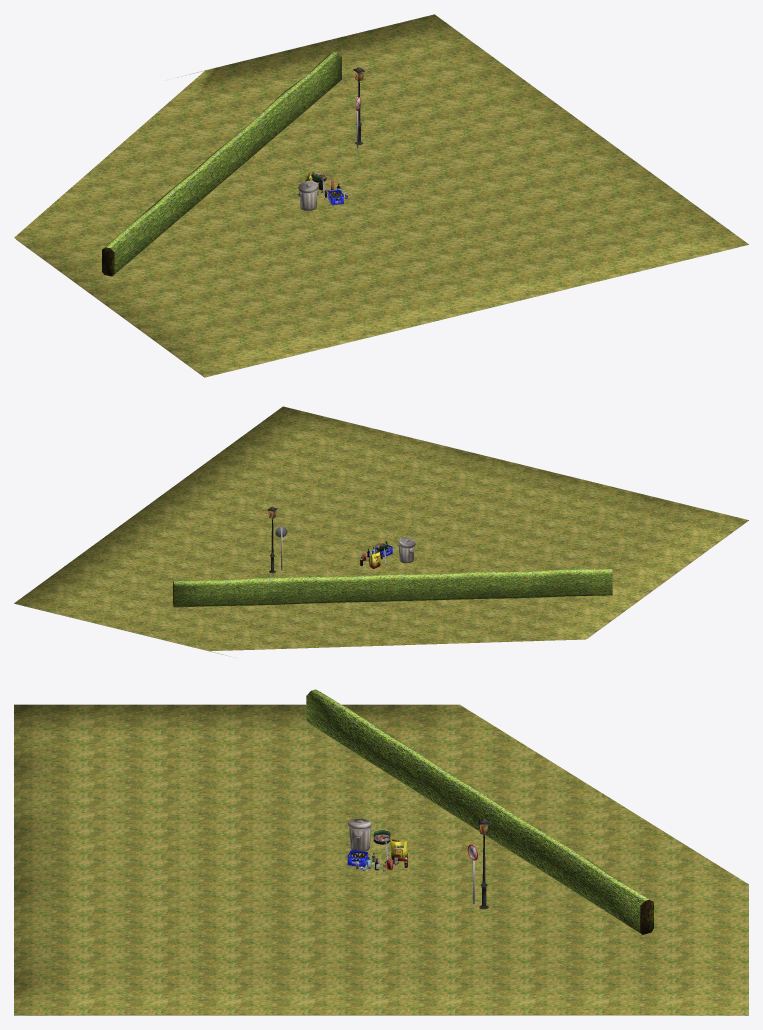
The model's file is grill.obj.
3 views of the same model, one above another, from view 1: azimuth 30°, elevation 25°; view 2: azimuth 150°, elevation 25°; view 3: azimuth 270°, elevation 25° (orthographic). The views are drawn at different scales.
Parts seen in each view (by area): view 1: Cube4_sep87_boden, park_tonne, Cube4_sep87_grill.001; view 2: Cube4_sep87_boden, park_tonne, Cube4_sep87_grill.001; view 3: Cube4_sep87_boden, park_tonne, Cube4_sep87_grill.001, Cube4_sep87_kasten_innen.
Part boxes in pixels (x1,y1,x2,y2): Cube4_sep87_boden: [14, 14, 748, 377]; park_tonne: [102, 52, 341, 276]; Cube4_sep87_grill.001: [305, 67, 364, 199]; Cube4_sep87_boden: [14, 406, 748, 656]; park_tonne: [173, 537, 612, 607]; Cube4_sep87_grill.001: [267, 506, 387, 573]; Cube4_sep87_boden: [14, 704, 748, 1015]; park_tonne: [306, 689, 653, 934]; Cube4_sep87_grill.001: [369, 818, 489, 909]; Cube4_sep87_kasten_innen: [347, 850, 407, 871].
Size of what is drawn, in the model's own units: 279 by 39.5 by 279.
